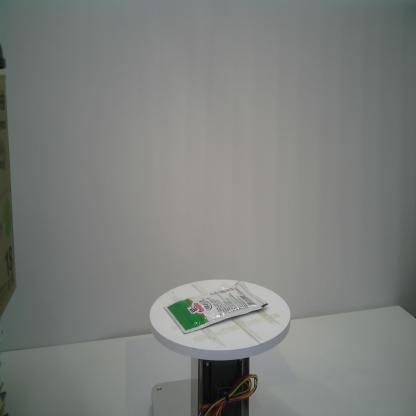Seasoner: (162, 279, 269, 334)
